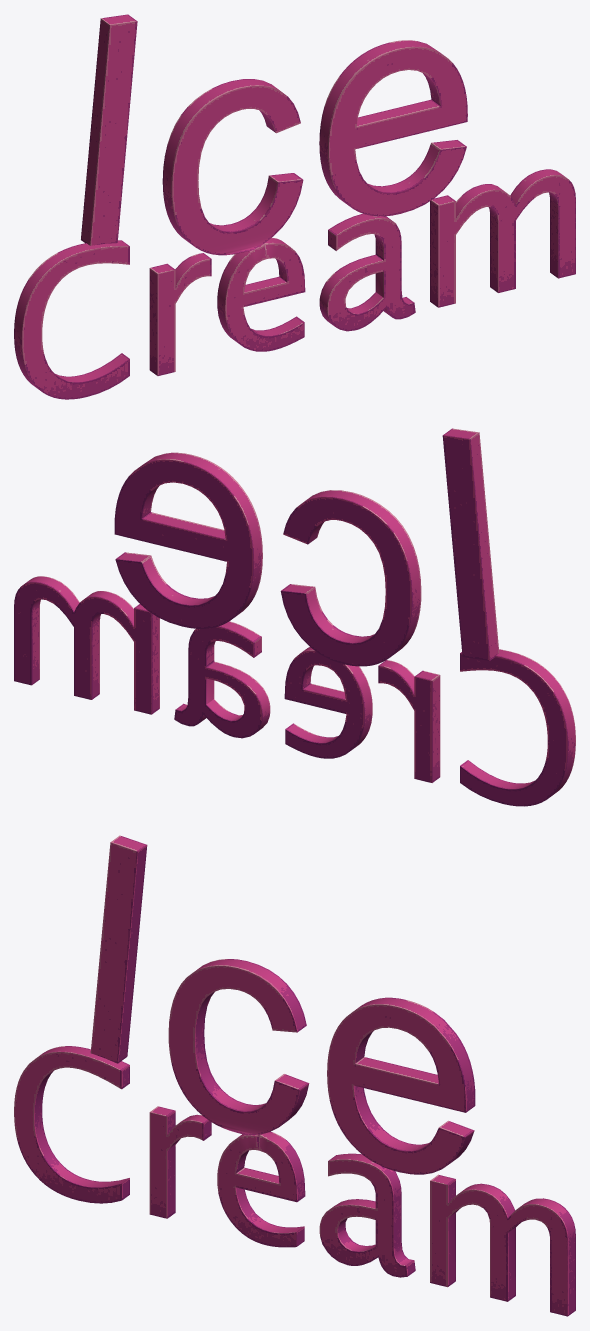
Rendered from softserve.glb.
3 renders of one model, top to bottom at view 1: azimuth 30°, elevation 25°; view 2: azimuth 150°, elevation 25°; view 3: azimuth 330°, elevation 25°, orthographic.
Parts seen in each view (by area): view 1: mesh; view 2: mesh; view 3: mesh.
Boxes of the visible parts, x1,y1,x2,y2 form: mesh: (14,14,575,399); mesh: (14,428,575,806); mesh: (14,835,575,1316).
Size of the model in its own units: 2.72 by 1.7 by 0.1166.
Materials: 1 (1 with a texture image).
